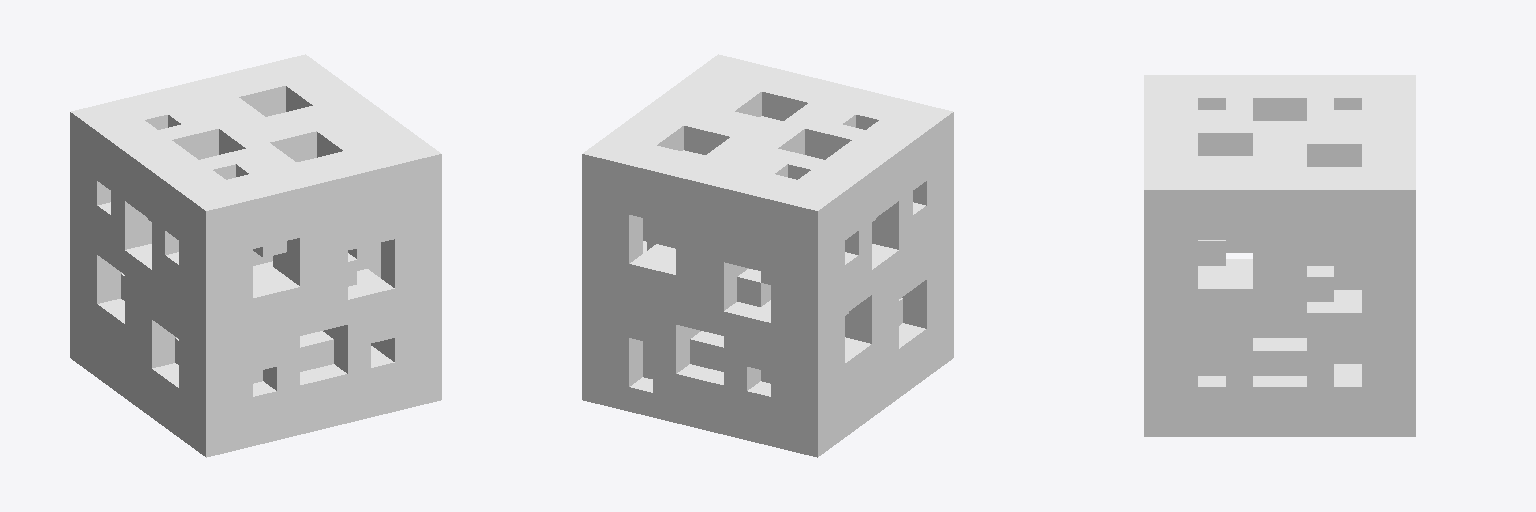
Rendered from Stone_body.obj.
3 views of the same model, side by side, from view 1: azimuth 30°, elevation 25°; view 2: azimuth 150°, elevation 25°; view 3: azimuth 270°, elevation 25° (orthographic).
Parts seen in each view (by area): view 1: object 1; view 2: object 1; view 3: object 1.
Part boxes in pixels (x1,y1,x2,y2): object 1: (70,54,441,457); object 1: (582,54,953,457); object 1: (1144,75,1415,436).
Bounding box in the file's own units: 1 × 1 × 1.